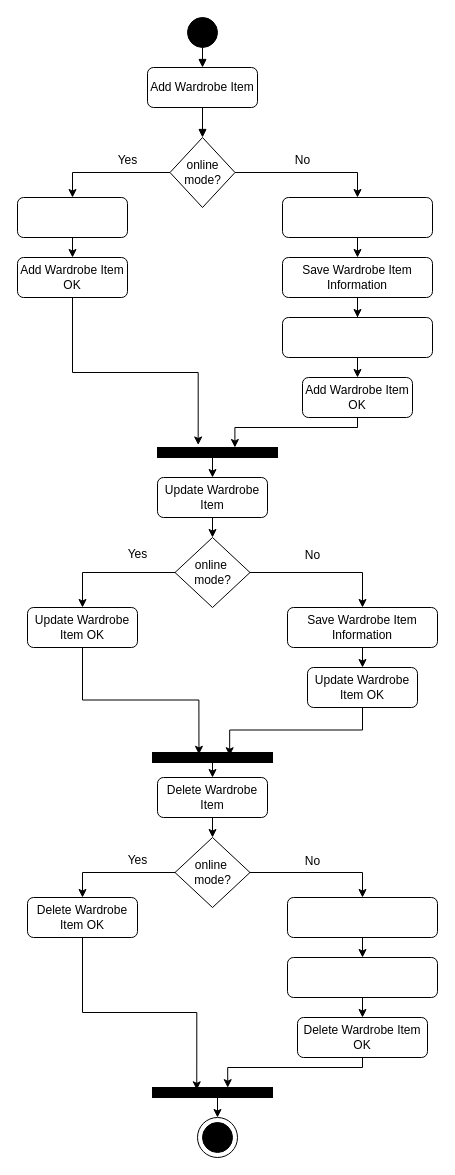
Some shapes in this 455 by 1175 pixel diagram are drawn without their labels. The centre of each missing label's shape, as x and y in pixels:
"Delete Image" goes at point (362, 977).
"Delete Information" goes at point (362, 917).
"Save Wardrobe Item Image" goes at point (357, 337).
"Select Offline Category" goes at point (357, 217).
"Select Online Category" goes at point (72, 217).
